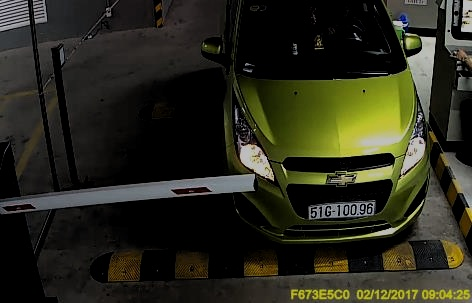plate: (306, 199, 376, 219)
